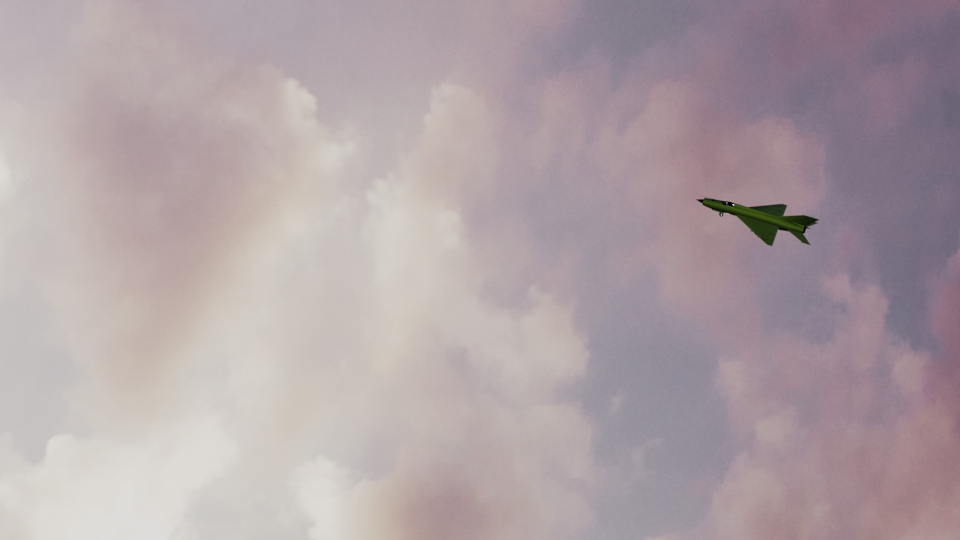plane: (694, 193, 819, 248)
